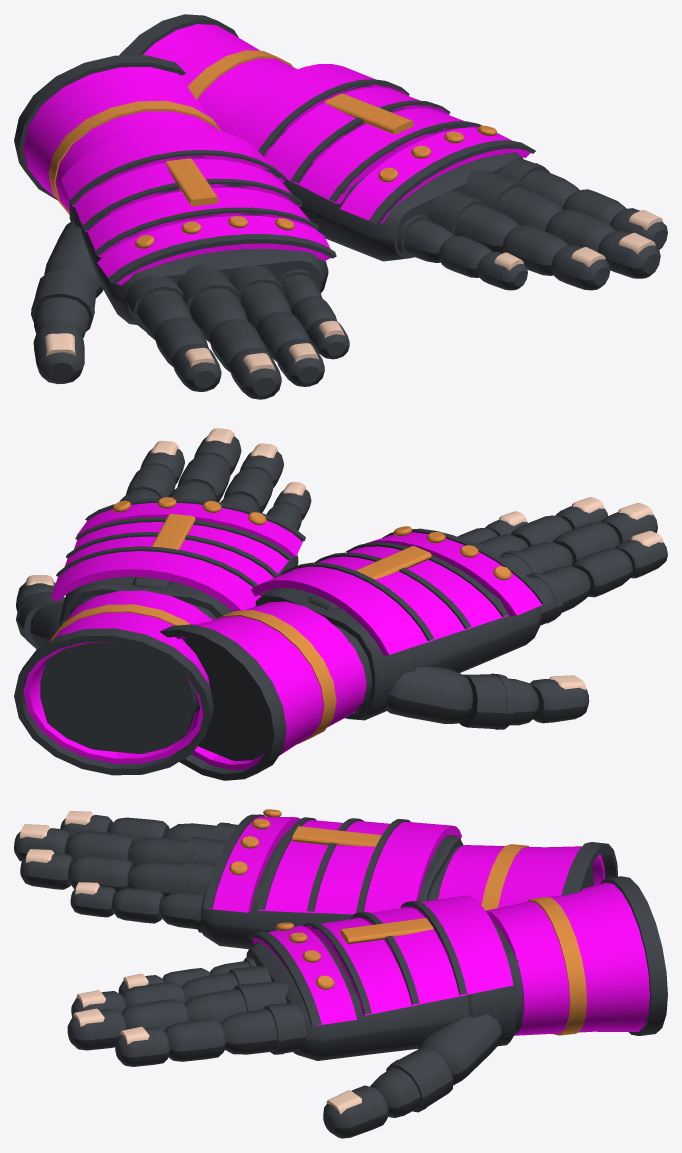
File: objet_armure3_gants.glb
3 views of the same model, one above another, from view 1: azimuth 30°, elevation 25°; view 2: azimuth 150°, elevation 25°; view 3: azimuth 270°, elevation 25° (orthographic). The views are drawn at different scales.
Visible parts, largest first — view 1: main__gantelet_teinte.022, main__gantelet_teinte.021, manchette__gantelet_teinte.022, main__gantelet_teinte_sombre.010, main.021, manchette__gantelet_teinte.021, main__gantelet_teinte_sombre.009, main.022, pouce_2.022, annulaire_1.021, majeur_1.021, majeur_1.022 (+29 smaller); view 2: main__gantelet_teinte.022, manchette.021, main__gantelet_teinte.021, manchette__gantelet_teinte.022, main.022, manchette__gantelet_teinte.021, manchette__gantelet_teinte_sombre.005, manchette.022, manchette__gantelet_teinte_sombre.006, main__gantelet_teinte_sombre.009, pouce_1.022, main__gantelet_teinte_sombre.010 (+29 smaller); view 3: main__gantelet_teinte.021, manchette__gantelet_teinte.021, main__gantelet_teinte.022, main.021, manchette__gantelet_teinte.022, main.022, main__gantelet_teinte_sombre.009, pouce_2.021, index_1.021, main__gantelet_teinte_sombre.010, pouce_1.021, manchette__gantelet_teinte_sombre.005 (+28 smaller).
Boxes of the visible parts, x1,y1,x2,y2 form: main__gantelet_teinte.022: (61, 126, 330, 285); main__gantelet_teinte.021: (224, 64, 530, 223); manchette__gantelet_teinte.022: (23, 67, 217, 211); main__gantelet_teinte_sombre.010: (69, 150, 336, 284); main.021: (232, 118, 523, 261); manchette__gantelet_teinte.021: (143, 24, 297, 131); main__gantelet_teinte_sombre.009: (258, 79, 535, 223); main.022: (69, 203, 328, 324); pouce_2.022: (31, 269, 96, 337); annulaire_1.021: (427, 191, 519, 253); majeur_1.021: (462, 170, 563, 231); majeur_1.022: (177, 264, 247, 342); main__gantelet_teinte.022: (251, 532, 545, 655); manchette.021: (40, 642, 197, 753); main__gantelet_teinte.021: (51, 502, 302, 611); manchette__gantelet_teinte.022: (176, 601, 366, 770); main.022: (255, 588, 541, 720); manchette__gantelet_teinte.021: (23, 590, 212, 763); manchette__gantelet_teinte_sombre.005: (14, 628, 214, 775); manchette.022: (182, 638, 268, 761); manchette__gantelet_teinte_sombre.006: (159, 624, 286, 780); main__gantelet_teinte_sombre.009: (56, 498, 305, 595); pouce_1.022: (385, 666, 472, 723); main__gantelet_teinte_sombre.010: (279, 528, 549, 640); main__gantelet_teinte.021: (252, 895, 513, 1025); manchette__gantelet_teinte.021: (486, 882, 649, 1035); main__gantelet_teinte.022: (207, 816, 461, 914); main.021: (246, 930, 523, 1060); manchette__gantelet_teinte.022: (438, 845, 604, 907); main.022: (200, 830, 463, 949); main__gantelet_teinte_sombre.009: (248, 901, 466, 1025); pouce_2.021: (370, 1047, 453, 1117); index_1.021: (220, 1002, 306, 1054); main__gantelet_teinte_sombre.010: (203, 814, 410, 912); pouce_1.021: (418, 1014, 501, 1085); manchette__gantelet_teinte_sombre.005: (599, 876, 667, 1035).
Size of the model in its own units: 0.3286 by 0.0844 by 0.3517.
